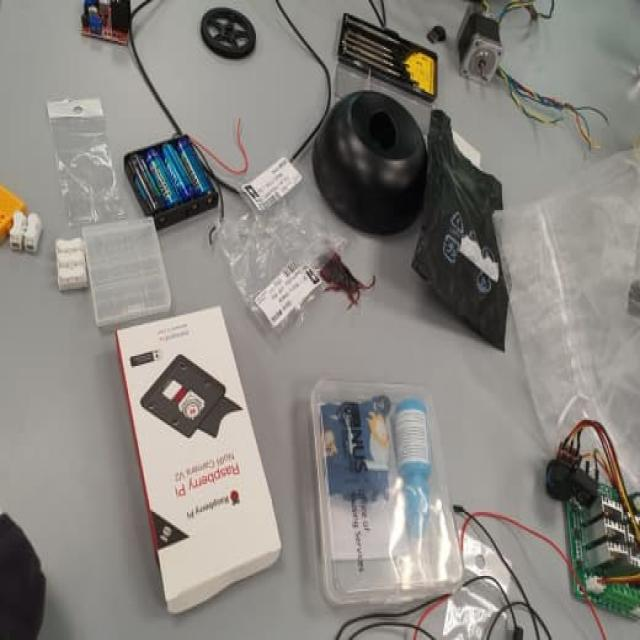Cockroach: (303, 232, 382, 318)
